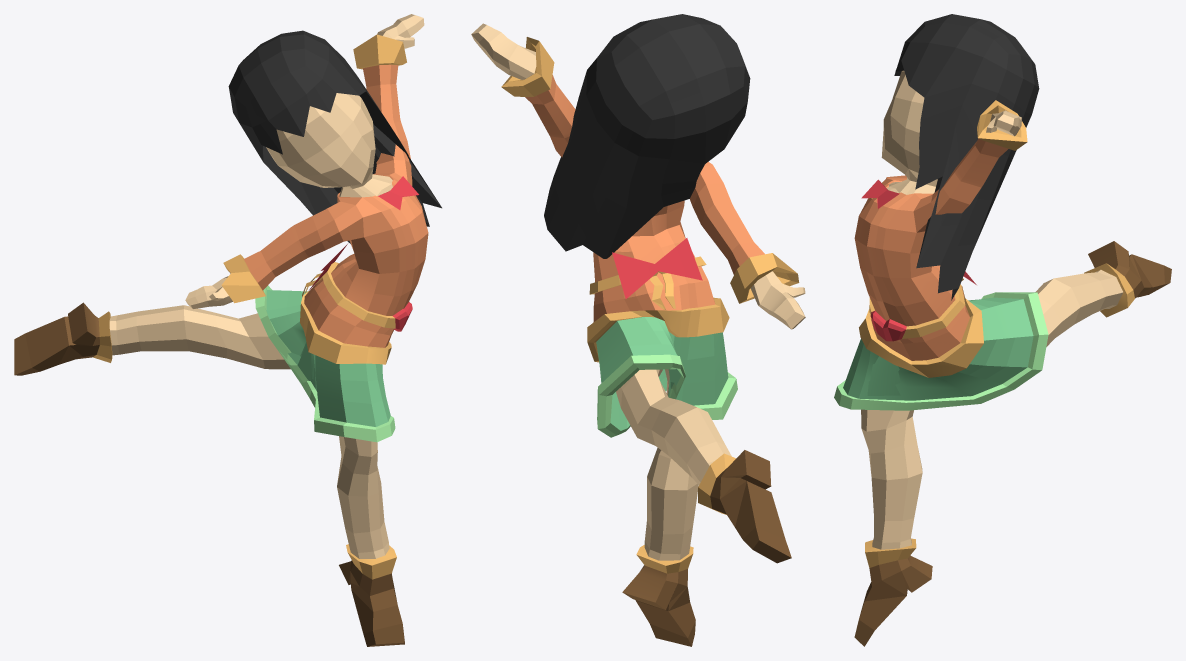
The model's file is maria1.fbx.
The picture shows the model from 3 angles, left to right: view 1: azimuth 30°, elevation 25°; view 2: azimuth 150°, elevation 25°; view 3: azimuth 270°, elevation 25°; orthographic projection. The views are drawn at different scales.
Visible parts, largest first — view 1: Cube.002; view 2: Cube.002; view 3: Cube.002.
Boxes of the visible parts, x1=… form: Cube.002: x1=14, y1=14, x2=441, y2=646; Cube.002: x1=471, y1=14, x2=805, y2=646; Cube.002: x1=834, y1=14, x2=1171, y2=646.
Bounding box in the file's own units: 208 × 341 × 175.
